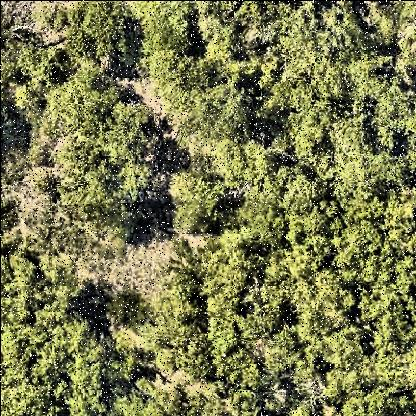tree-top: (280, 1, 398, 101), (1, 308, 106, 408), (132, 60, 258, 140), (63, 117, 166, 210), (355, 261, 416, 353), (3, 28, 58, 122), (62, 3, 132, 73), (162, 163, 228, 237), (53, 67, 114, 143), (330, 217, 385, 294), (130, 9, 203, 63), (230, 199, 290, 251), (156, 276, 206, 338), (283, 107, 332, 170), (1, 246, 42, 311), (340, 381, 414, 416), (320, 326, 369, 374), (330, 116, 376, 163), (178, 331, 218, 384), (220, 348, 267, 392), (103, 293, 150, 333), (239, 304, 286, 344), (205, 24, 241, 64)
